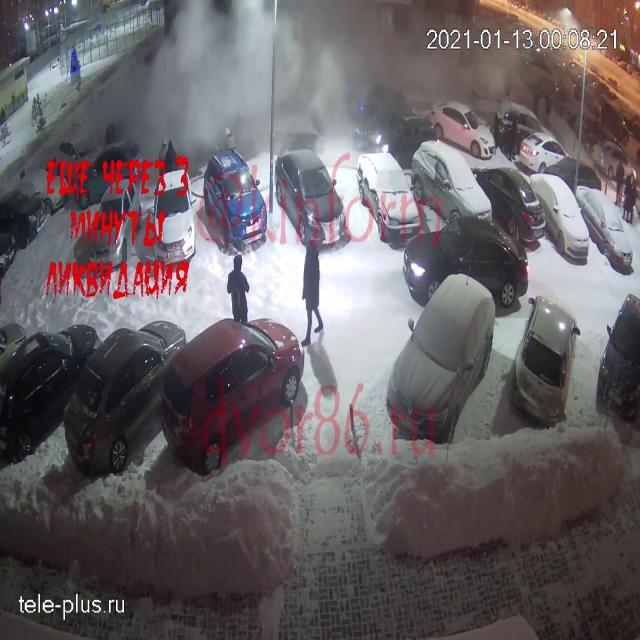Smoke: (124, 0, 610, 152)
